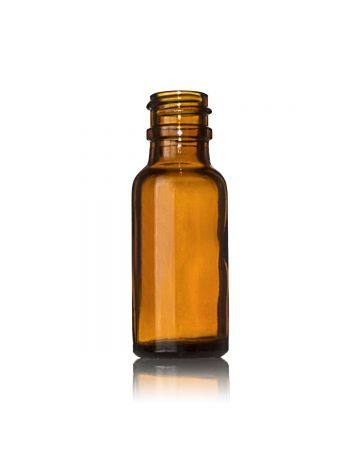container: (126, 86, 232, 363)
